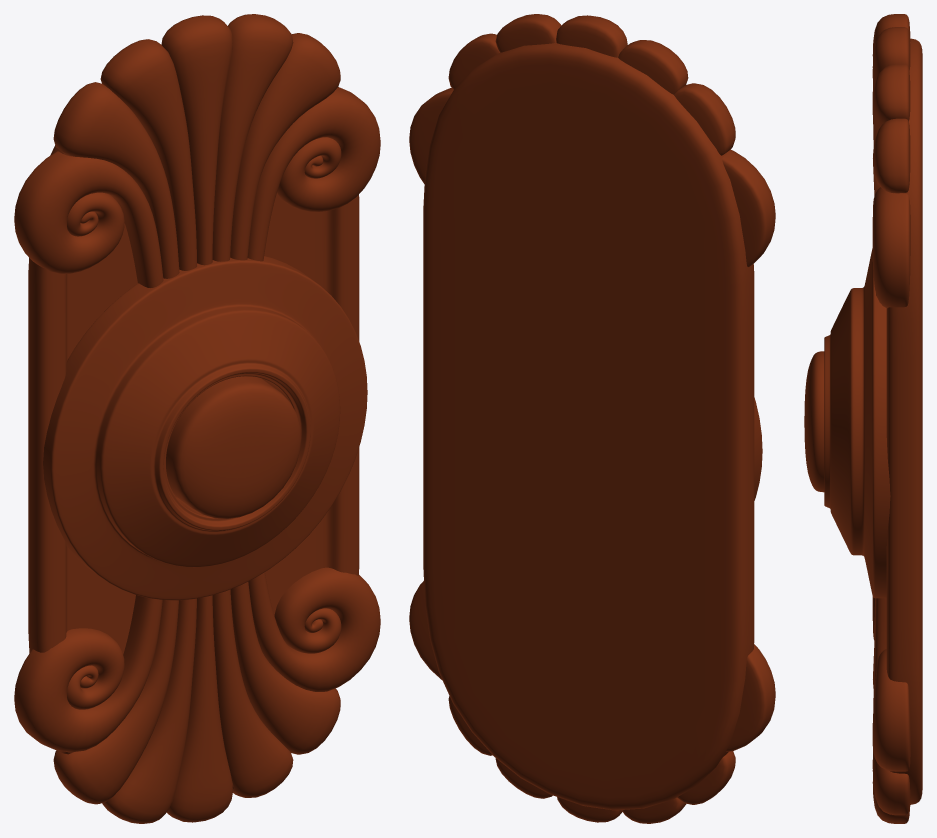
The picture shows the model from 3 angles, left to right: view 1: azimuth 30°, elevation 25°; view 2: azimuth 150°, elevation 25°; view 3: azimuth 270°, elevation 25°; orthographic projection. The views are drawn at different scales.
Visible parts, largest first — view 1: archmodels95_020_001; view 2: archmodels95_020_001; view 3: archmodels95_020_001.
Part boxes in pixels (left/top/right/bottom): archmodels95_020_001: left=14, top=14, right=380, bottom=823; archmodels95_020_001: left=409, top=14, right=775, bottom=823; archmodels95_020_001: left=804, top=14, right=922, bottom=823.
Bounding box in the file's own units: 1.31 × 2.8 × 0.3881.
